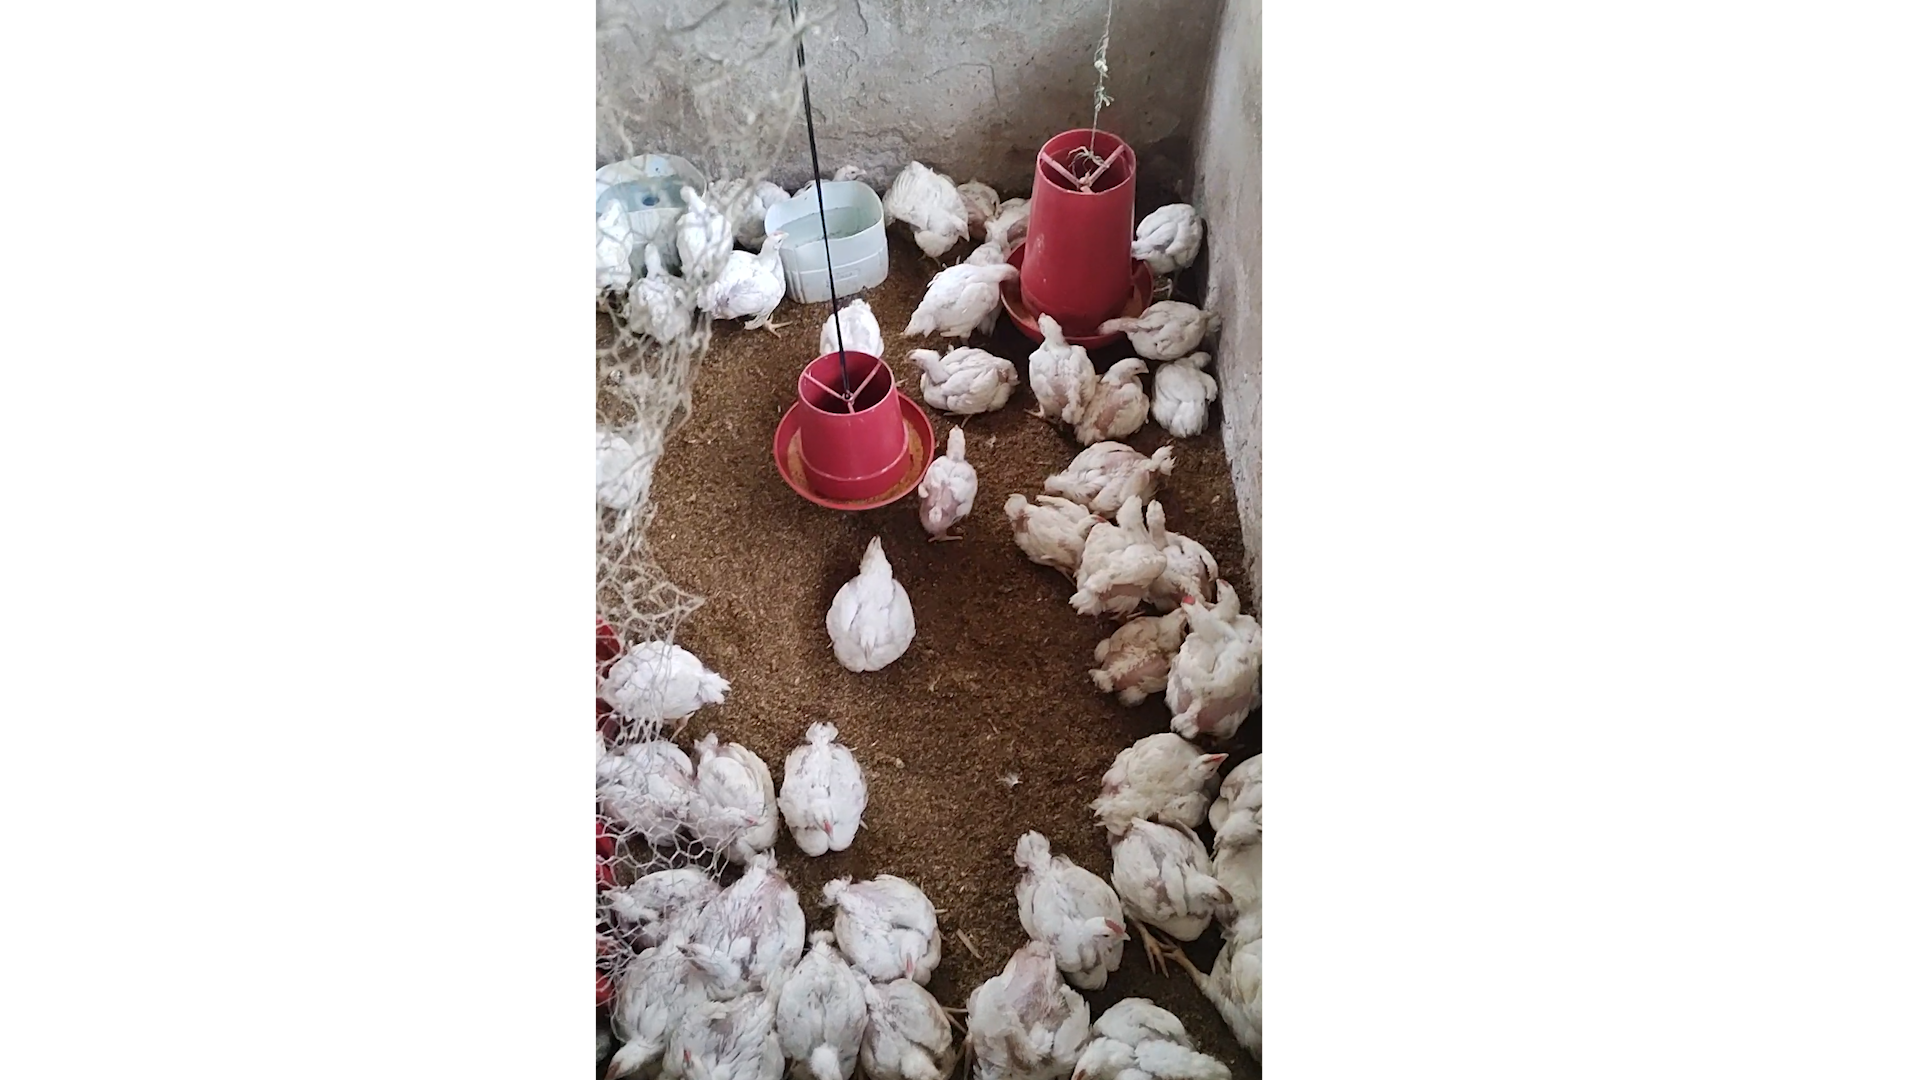Pollos: (683, 847, 808, 1001), (1104, 808, 1242, 944), (1002, 825, 1131, 963), (965, 939, 1079, 1080), (811, 524, 920, 662), (1091, 589, 1208, 709), (777, 715, 876, 855), (688, 225, 807, 340), (1092, 733, 1233, 829), (1174, 582, 1255, 740), (1064, 487, 1167, 612), (833, 868, 945, 978), (592, 637, 735, 724), (686, 723, 781, 851), (902, 247, 1018, 347), (775, 924, 857, 1065), (1134, 495, 1229, 604), (1018, 305, 1102, 427), (1044, 433, 1166, 516), (887, 152, 978, 255), (1088, 297, 1228, 361), (898, 342, 1018, 417), (996, 476, 1092, 570), (1149, 340, 1234, 440), (913, 418, 982, 541), (1124, 203, 1220, 285), (1065, 357, 1149, 436), (808, 286, 885, 367), (829, 146, 873, 187)
